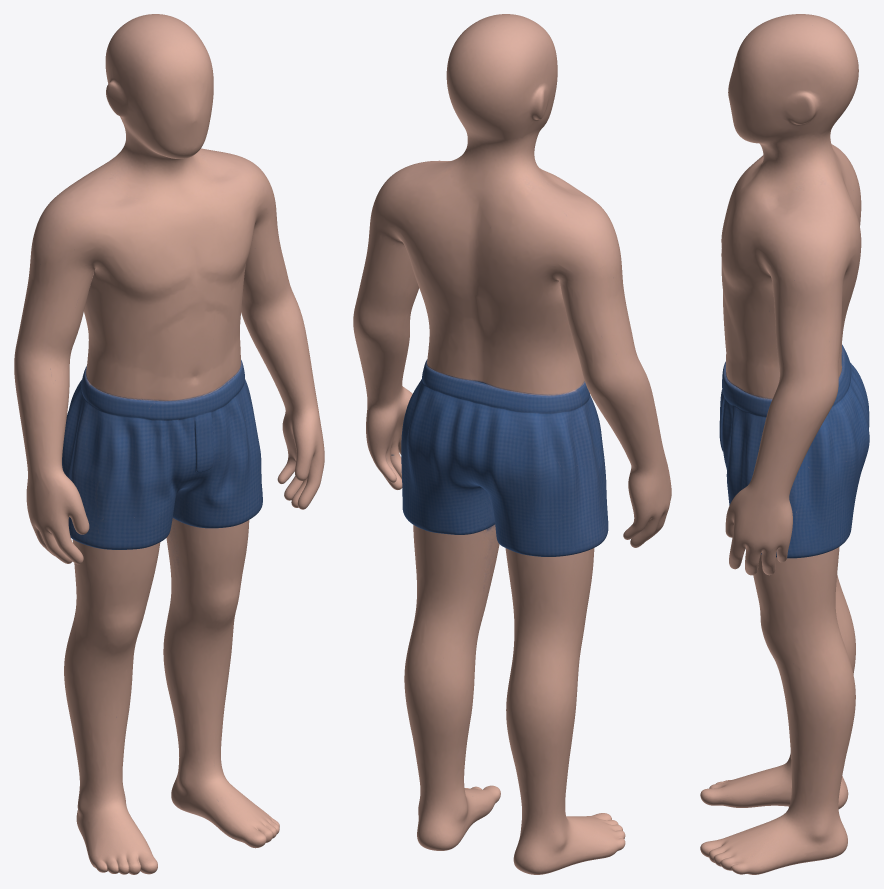
The model's file is corps_base.glb.
3 renders of one model, left to right at view 1: azimuth 30°, elevation 25°; view 2: azimuth 150°, elevation 25°; view 3: azimuth 270°, elevation 25°, orthographic. The views are drawn at different scales.
Bounding box in the file's own units: 0.7006 × 1.9 × 0.3583.
1 material, 1 textured.
